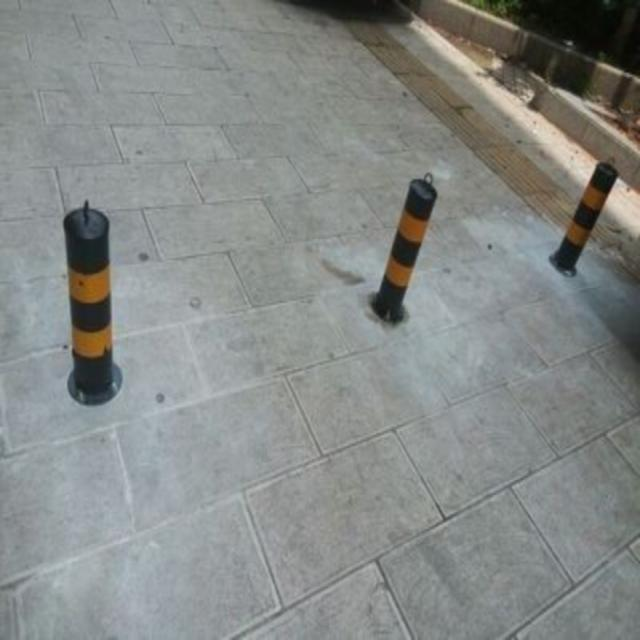warning_column: (59, 201, 122, 401), (371, 168, 437, 318), (546, 156, 618, 271)
